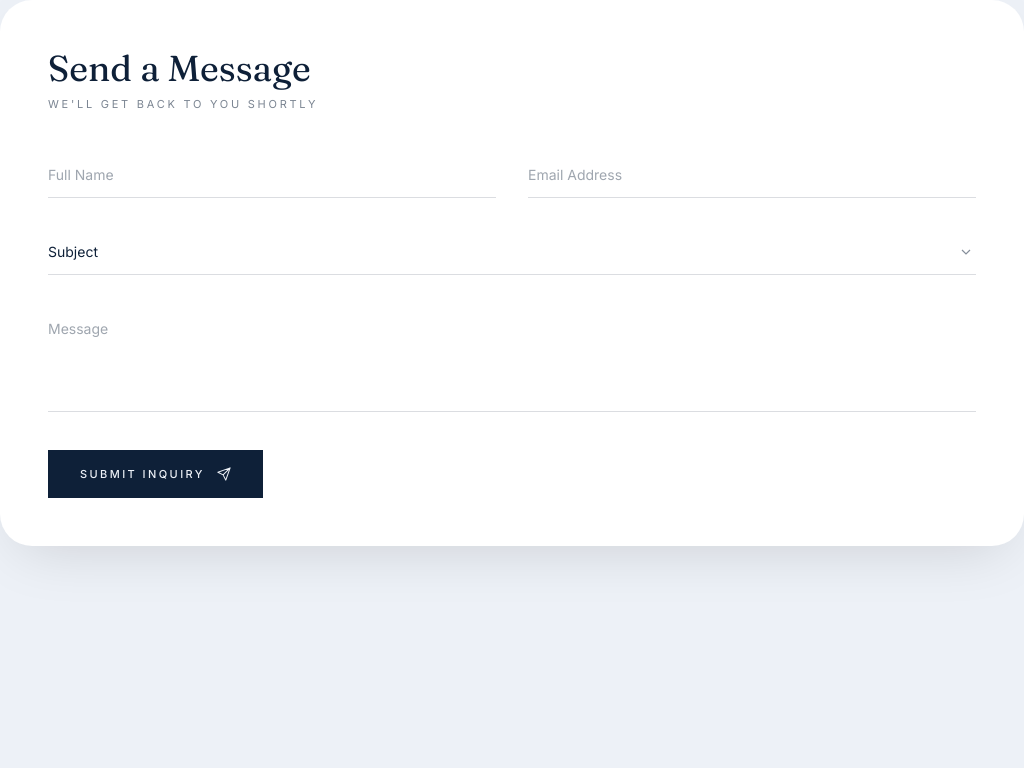
Test: ContactForm › falls back to a generic error when the failure has no JSON body
Type "Ada Lovelace" into the field labelled "Full Name" at [272, 175], box [48,152,496,198]
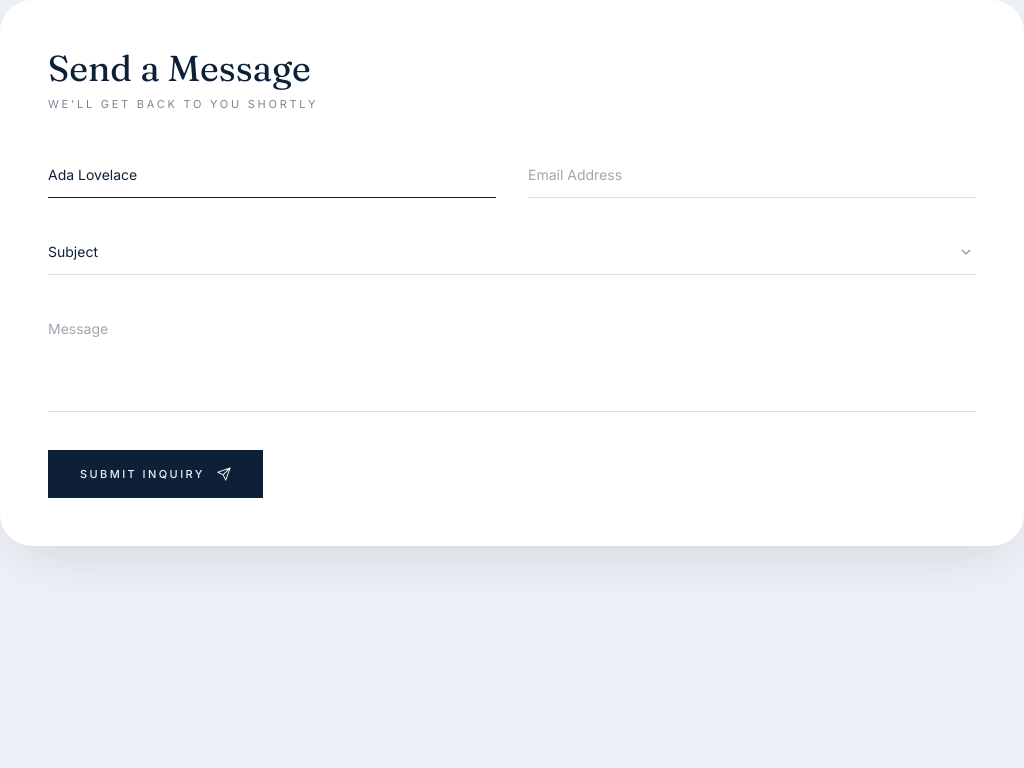
Type "ada@example.com" into the field labelled "Email Address" at [752, 175], box [528,152,976,198]
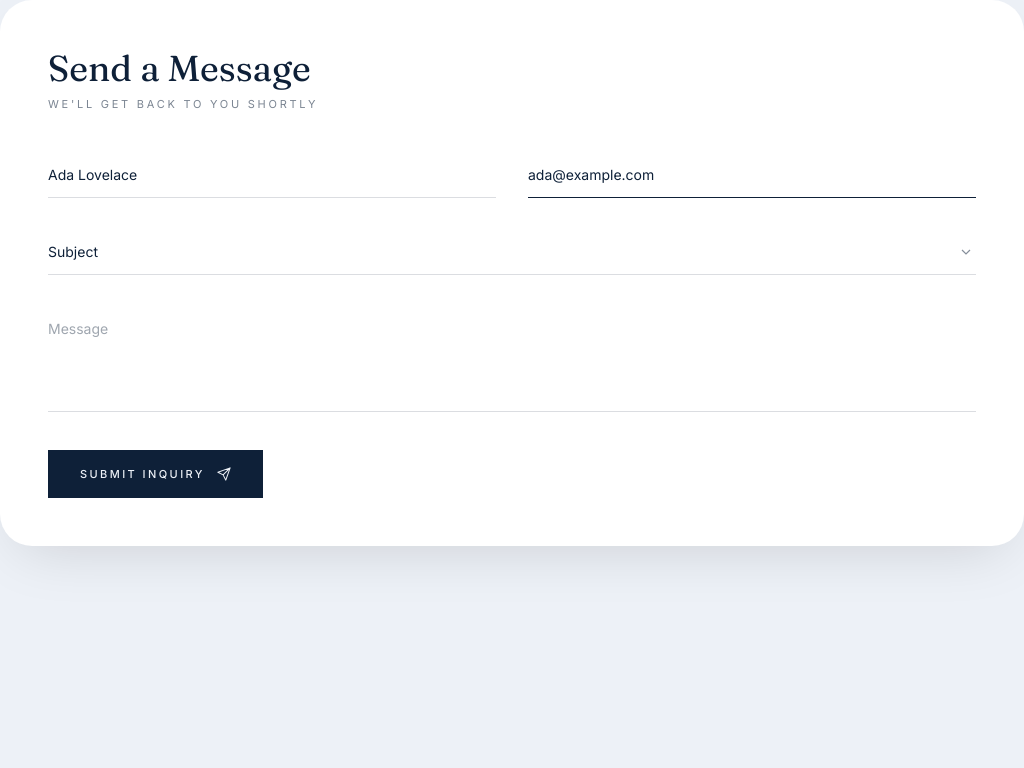
Select "Speaking Request" in the dropdown named "Subject" at [512, 252], box [48,230,976,274]
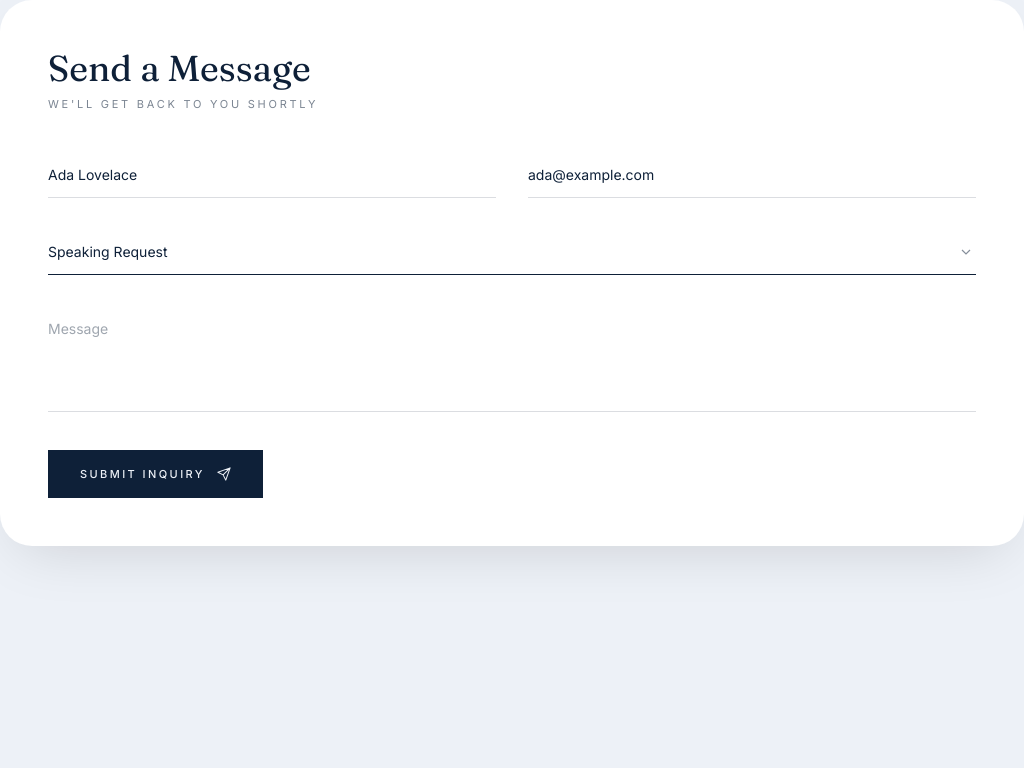
Type "Hello there" into the text box labelled "Message" at [512, 359], box [48,306,976,412]
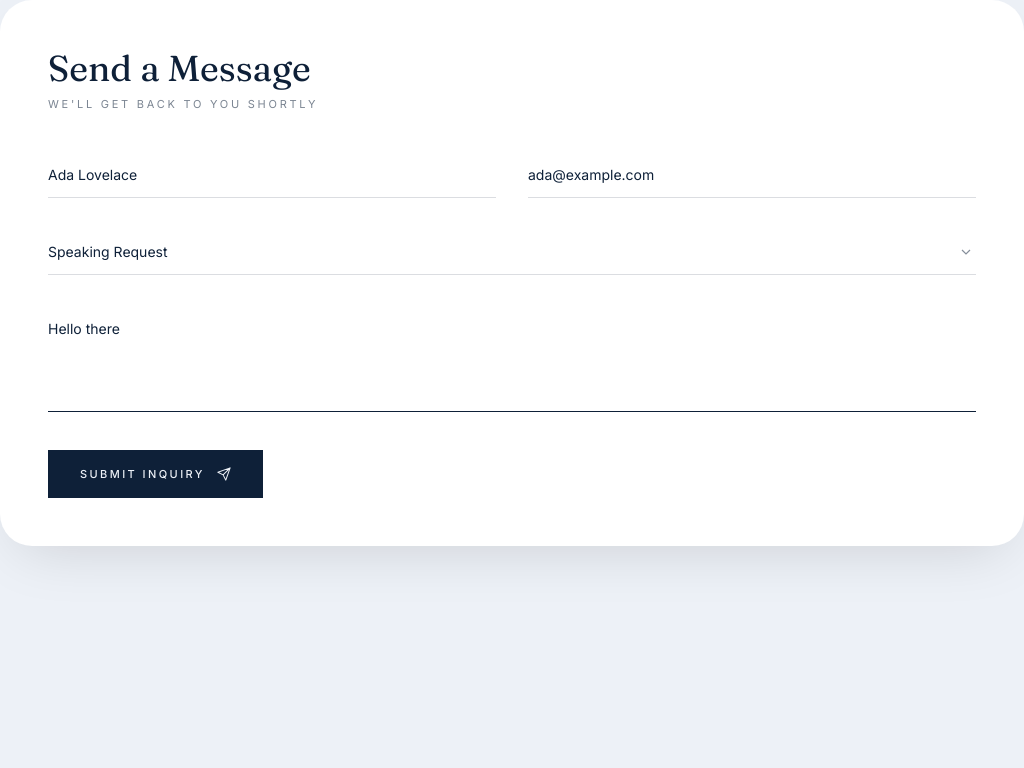
Click the button "Submit Inquiry" at [155, 474], box [48,450,263,498]
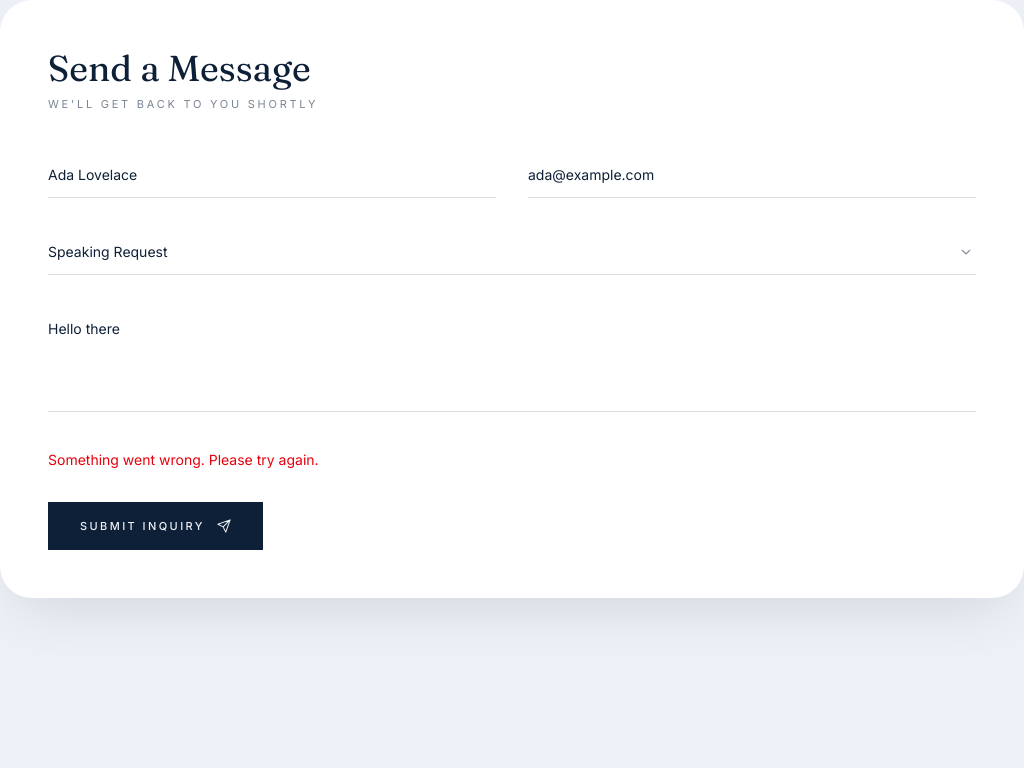
Expected: the message shows "Something went wrong", [48,450,319,468]
